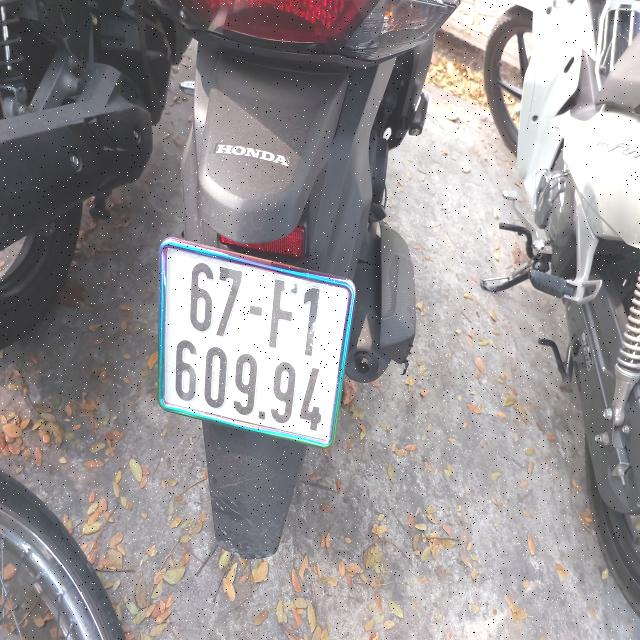0: (202, 344, 226, 406)
1: (300, 283, 319, 357)
4: (300, 360, 325, 436)
6: (189, 260, 213, 338), (175, 336, 199, 402)
7: (214, 261, 243, 338)
9: (234, 350, 258, 421), (271, 356, 294, 424)
F: (271, 274, 299, 356)
